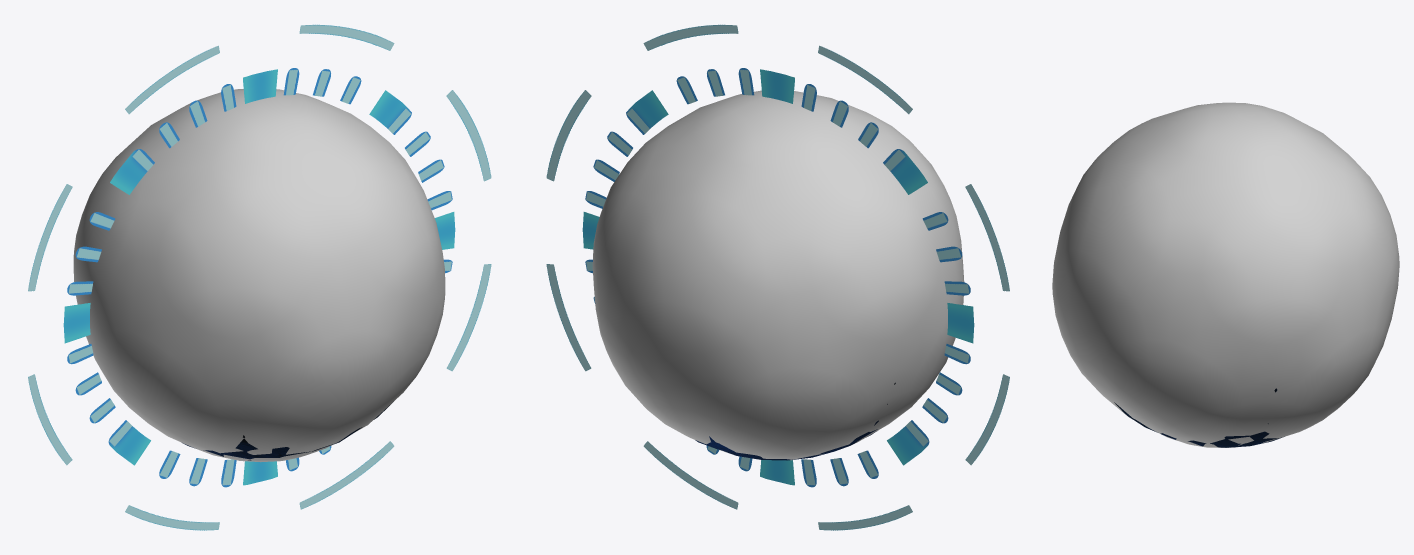
The model's file is Mars Set Up.fbx.
3 renders of one model, left to right at view 1: azimuth 30°, elevation 25°; view 2: azimuth 150°, elevation 25°; view 3: azimuth 270°, elevation 25°, orthographic. The views are drawn at different scales.
Parts seen in each view (by area): view 1: pSolid1, pPipe1, pPipe2, pSphere1; view 2: pSolid1, pPipe1, pPipe2, pSphere1; view 3: pSolid1, pSphere1.
Boxes of the visible parts, x1,y1,x2,y2 form: pSolid1: (73,89,445,462); pPipe1: (63,68,455,487); pPipe2: (28,24,491,530); pSphere1: (182,401,393,460); pSolid1: (592,90,964,460); pPipe1: (582,68,974,487); pPipe2: (546,24,1009,530); pSphere1: (695,382,895,460); pSolid1: (1052,102,1399,447); pSphere1: (1114,388,1284,447).
Size of the model in its own units: 9.28 by 9.26 by 6.12.
